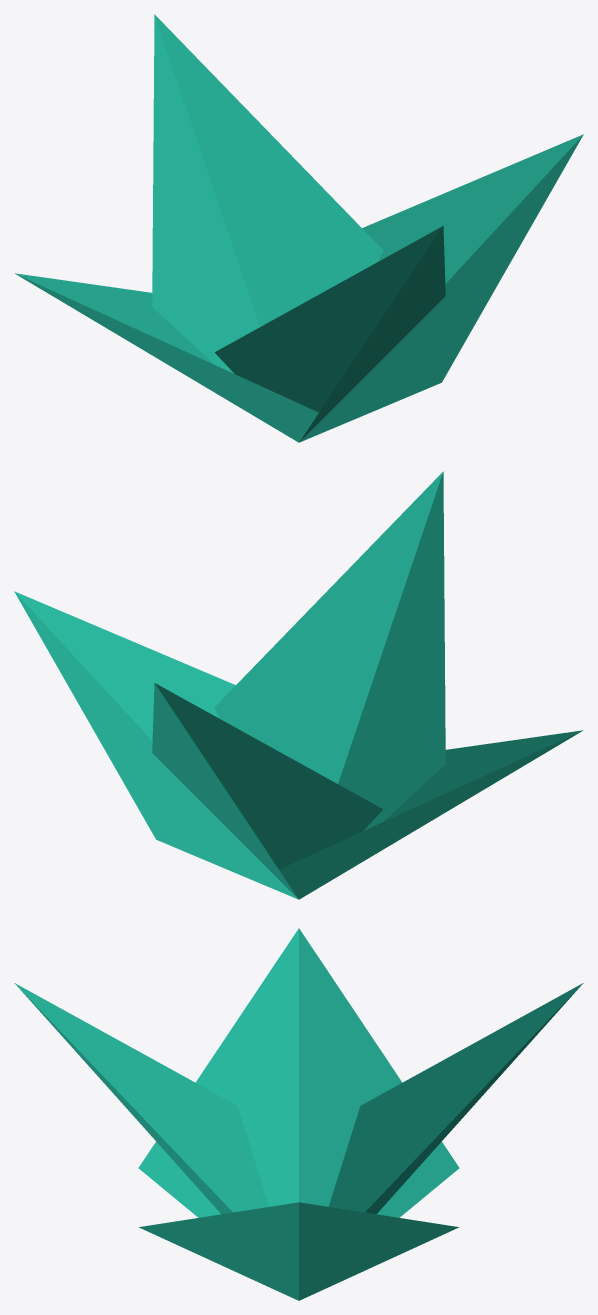
Rendered from plant_bushSmall.glb.
The picture shows the model from 3 angles, top to bottom: view 1: azimuth 30°, elevation 25°; view 2: azimuth 150°, elevation 25°; view 3: azimuth 270°, elevation 25°; orthographic projection.
Parts seen in each view (by area): view 1: plant_bushSmall; view 2: plant_bushSmall; view 3: plant_bushSmall.
Part boxes in pixels (left/top/right/bottom): plant_bushSmall: left=15, top=14, right=583, bottom=442; plant_bushSmall: left=14, top=471, right=582, bottom=899; plant_bushSmall: left=14, top=928, right=583, bottom=1300.
Size of the model in its own units: 0.4596 by 0.2488 by 0.4036.
